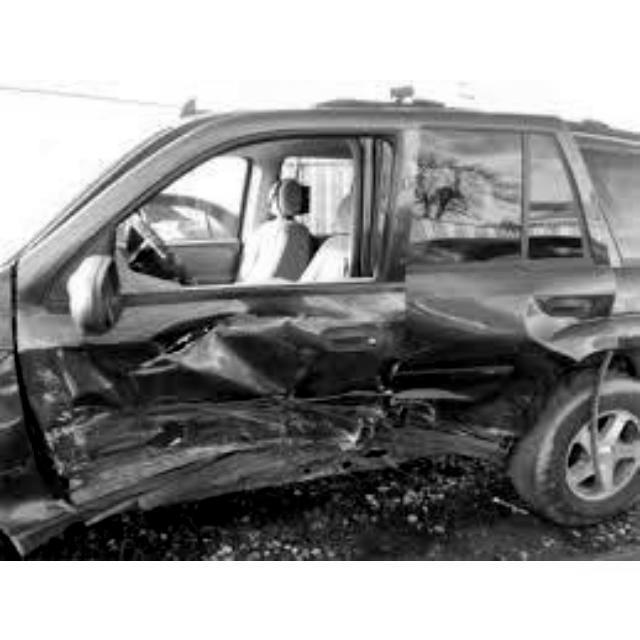doorouter-dent: (33, 292, 383, 482), (409, 295, 554, 470)
